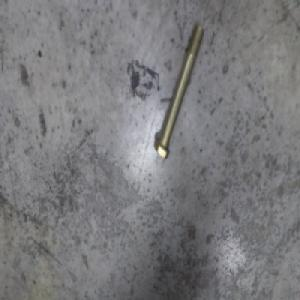Bolt: (154, 27, 203, 158)
